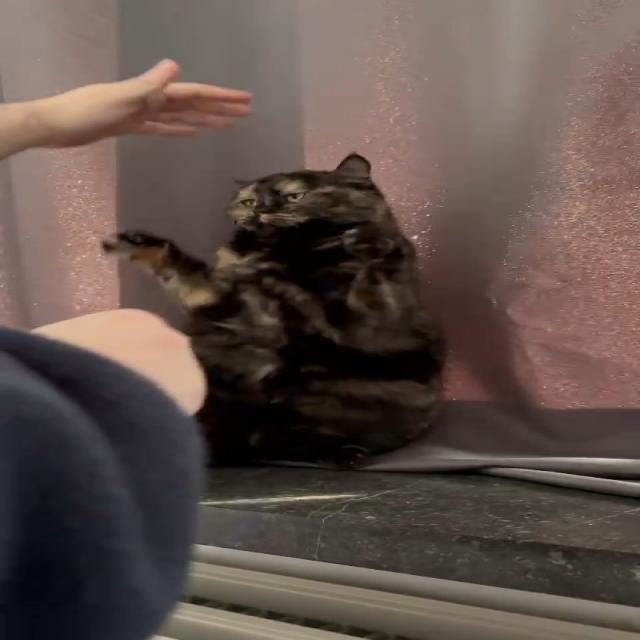authorized: (100, 151, 448, 469)
